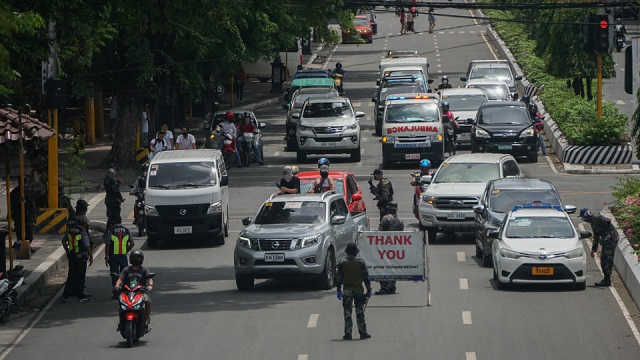bike: (117, 279, 148, 342)
car: (239, 195, 337, 283), (149, 149, 229, 243), (419, 157, 524, 227), (496, 209, 586, 290), (382, 93, 442, 163), (300, 99, 361, 159), (475, 102, 537, 159)
person: (338, 243, 374, 338), (579, 206, 619, 285), (62, 217, 92, 303), (377, 202, 404, 294), (104, 216, 130, 289), (120, 251, 151, 296), (101, 165, 122, 228), (370, 167, 394, 206), (315, 159, 336, 192), (277, 166, 300, 193), (173, 126, 197, 149), (219, 110, 237, 140), (147, 133, 167, 152), (239, 113, 255, 134), (334, 60, 343, 72)
pole: (46, 109, 59, 227), (596, 52, 603, 121)
traffic light: (46, 78, 64, 107), (595, 16, 608, 53)
tree: (105, 1, 144, 167), (557, 8, 593, 96)
